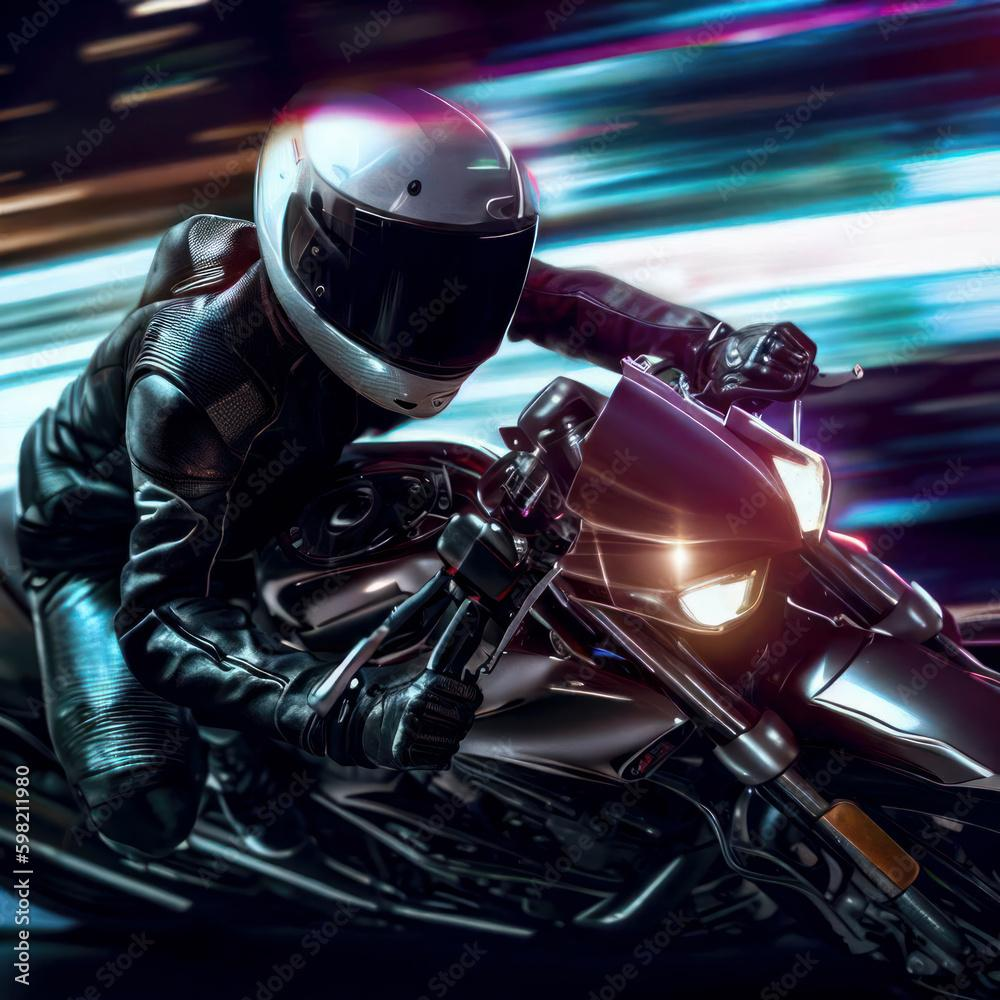helmet: (251, 70, 541, 421)
